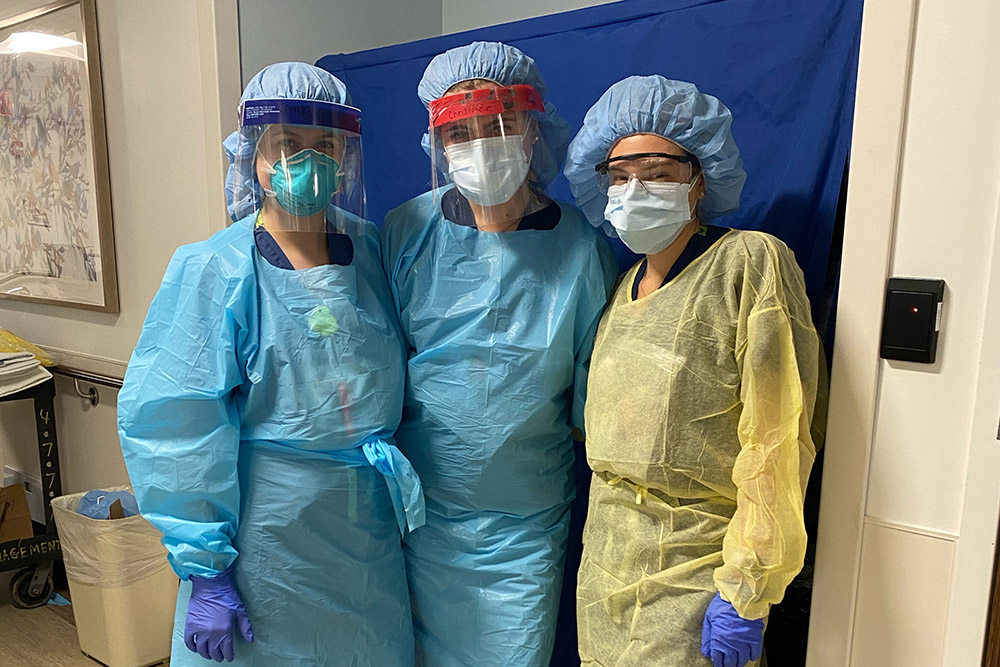Coverall: (130, 61, 417, 667), (574, 70, 819, 667), (387, 40, 597, 667)
Gloves: (177, 573, 256, 663), (695, 592, 763, 666)
with_mask: (597, 159, 698, 255), (257, 123, 349, 218), (438, 122, 534, 205)
